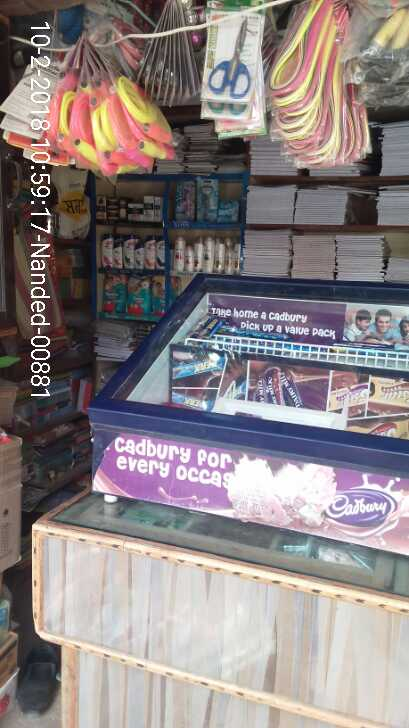venus: (196, 175, 218, 220), (175, 181, 196, 220), (218, 198, 240, 220)
